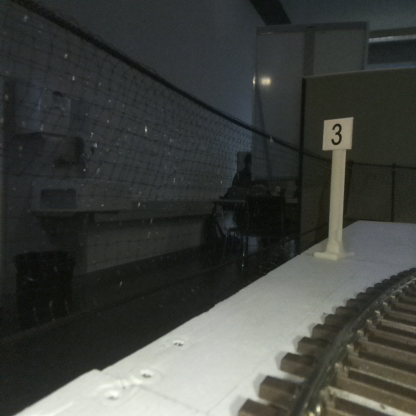white-info-3: (323, 120, 351, 259)
